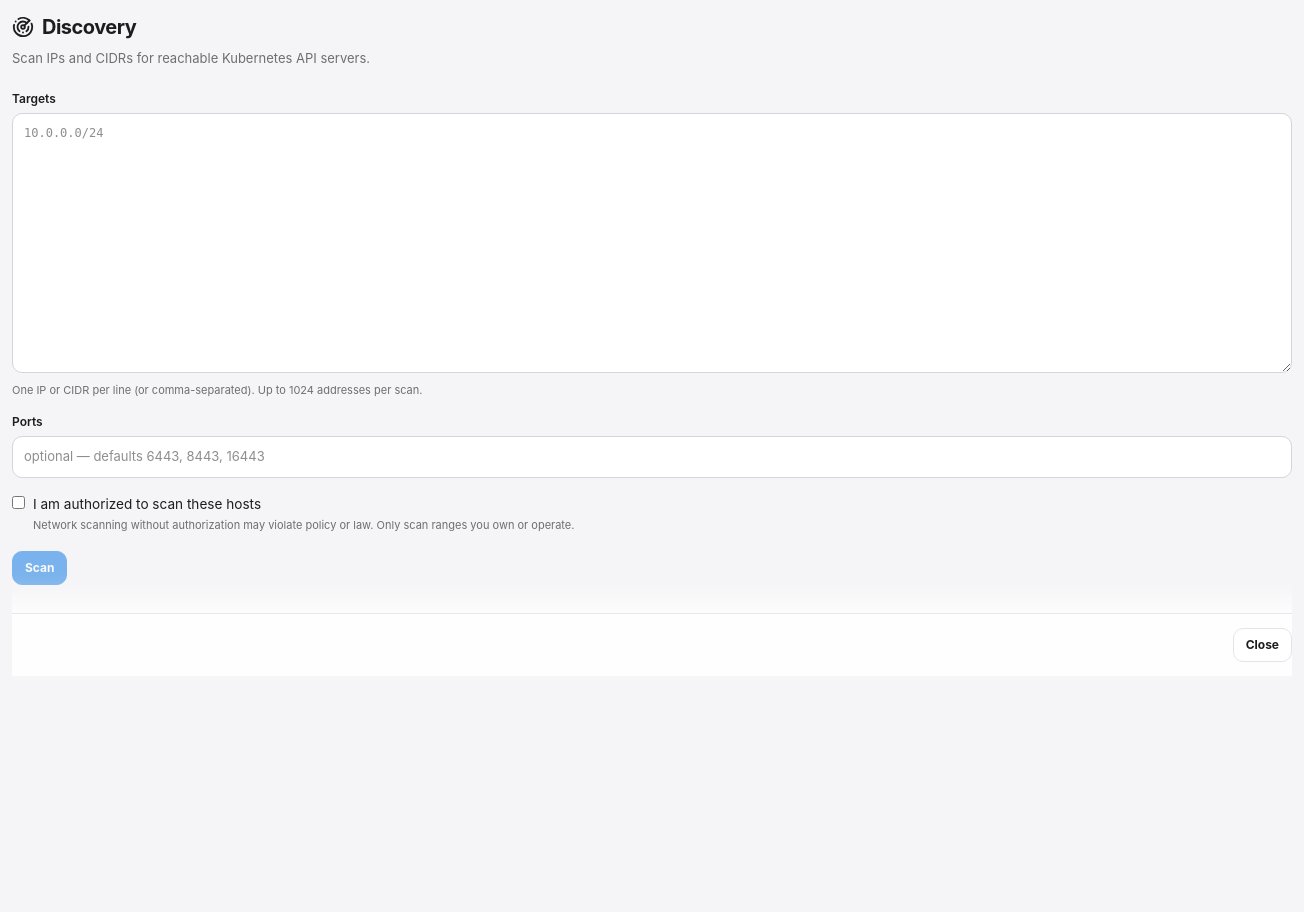
Test: Discovery modal › disables the Scan button until the consent checkbox is checked
Expected: the button "Scan" is disabled, [12,551,68,585]
Click the checkbox labelled "authorized to scan" at (18, 502), box [12,496,25,509]
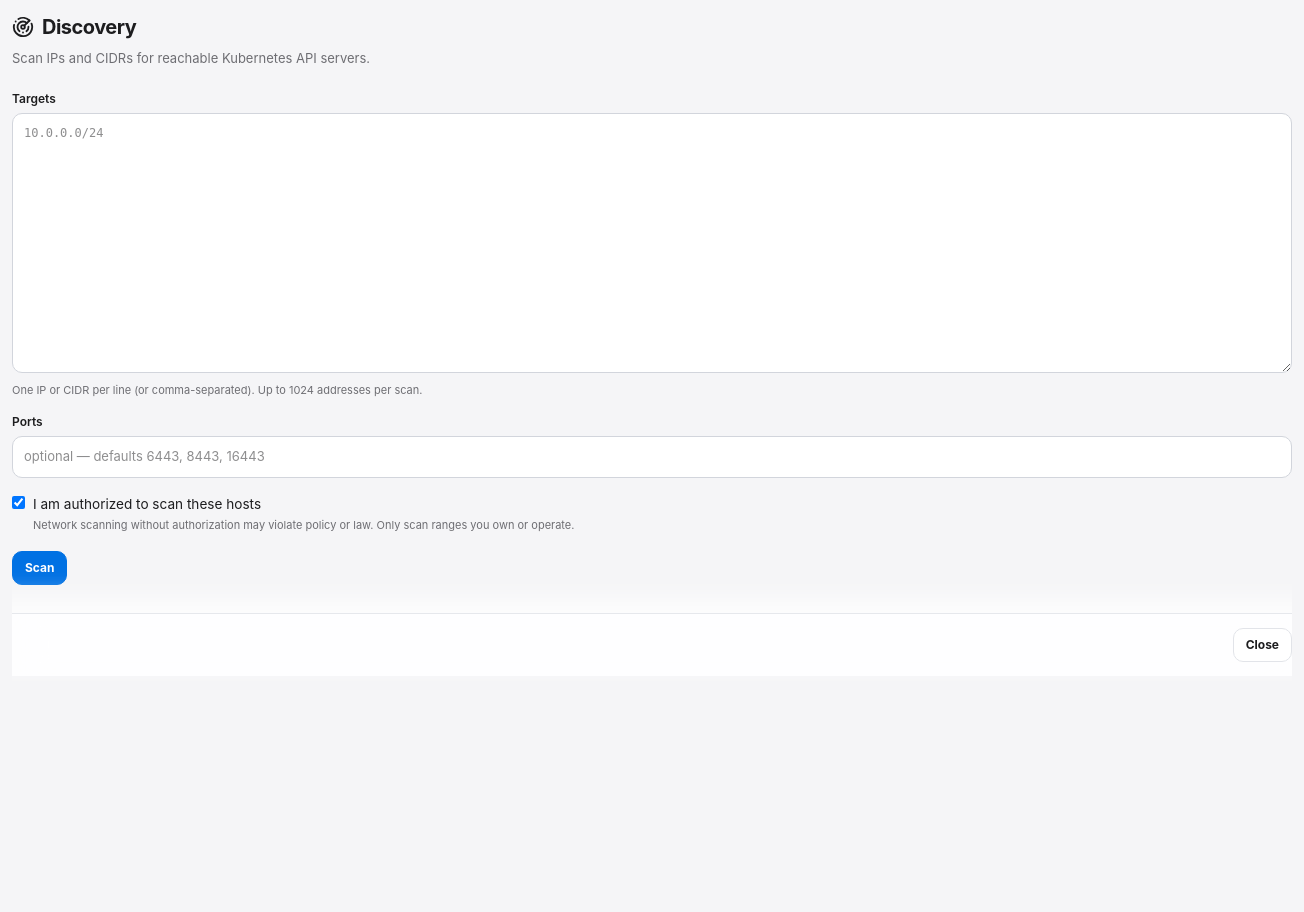
Now the button "Scan" is enabled, box [12,551,68,585]
